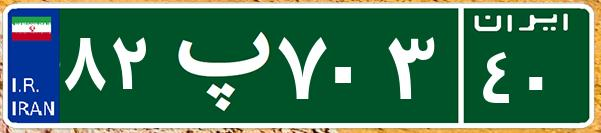0: (330, 28, 385, 110), (525, 38, 570, 115)
2: (110, 28, 158, 105)
3: (385, 28, 445, 110)
4: (475, 38, 525, 113)
7: (273, 28, 330, 110)
8: (57, 26, 110, 107)
پ: (158, 15, 273, 115)
